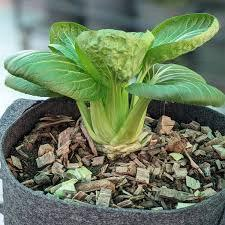Healthy-Pechay: (9, 14, 225, 135)
